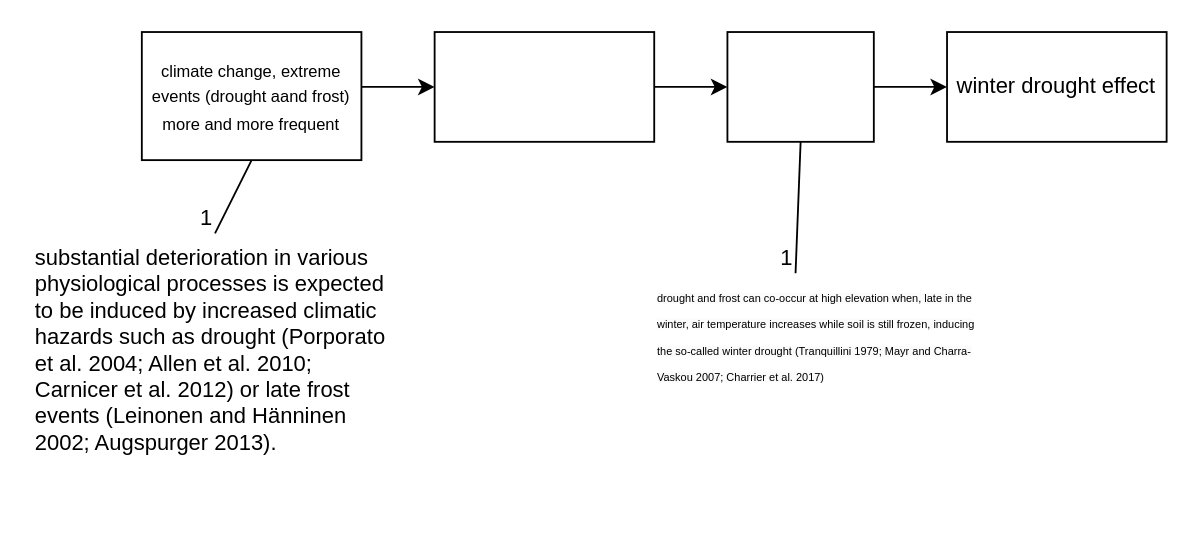
The diagram is 1199 pixels wide and 540 high, and some of its shapes have lost their labels. The centre of each missing label's shape, as x and y in pixels:
more focus on summer drought, less focus on winter drought: [543,86]
winter drought definition: [800,86]
